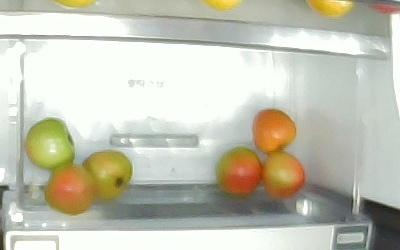tomato: (26, 118, 76, 171), (44, 165, 94, 215), (81, 150, 133, 198), (215, 147, 261, 196), (262, 152, 306, 200), (253, 109, 296, 152)
